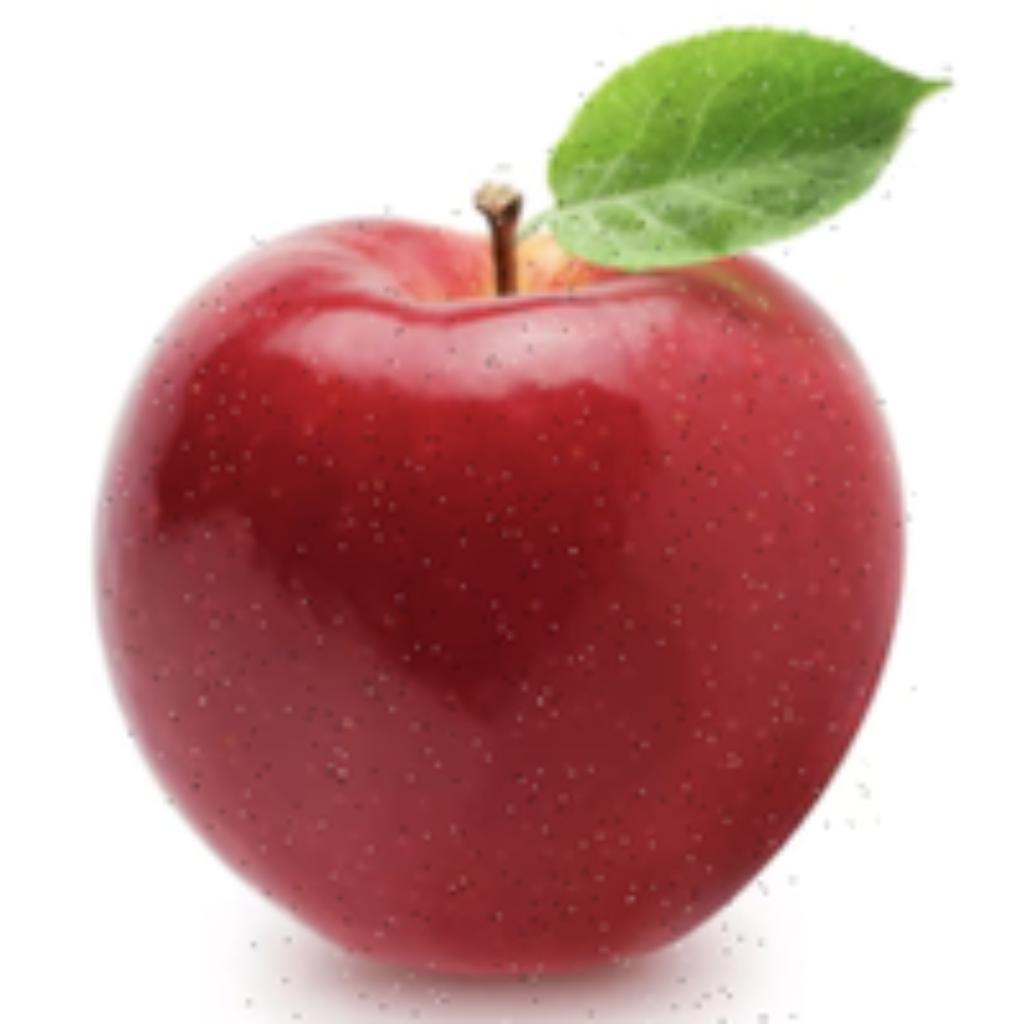apple: (82, 15, 957, 1019)
